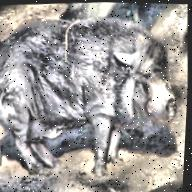boar: (0, 9, 185, 185)
